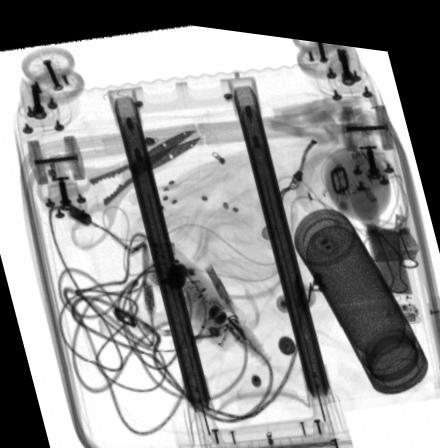Powerbank: (363, 214, 427, 315)
Scissors: (37, 125, 201, 251)
